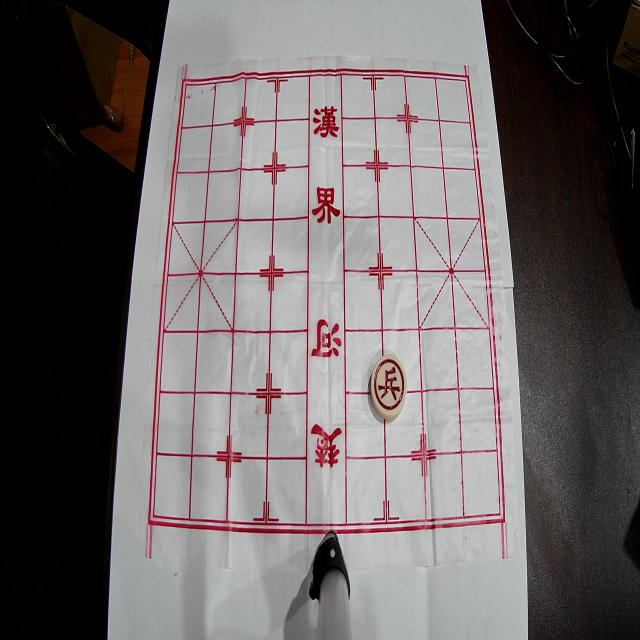red-soldier: (371, 354, 407, 420)
